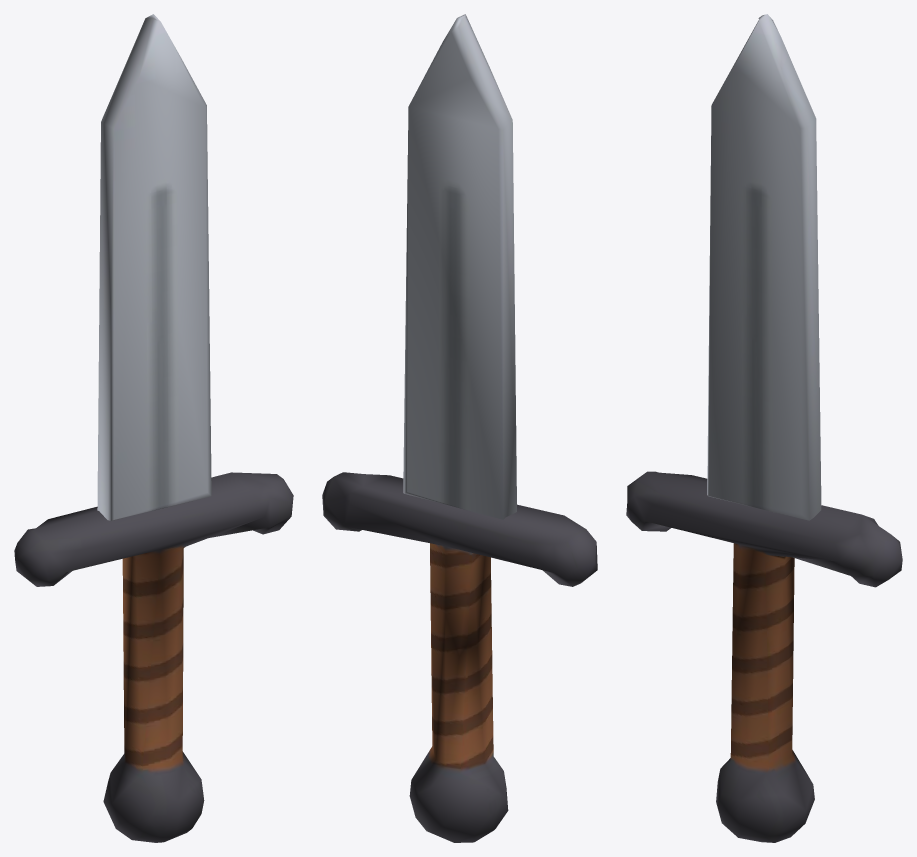
The model's file is adventurer-sword.glb.
3 renders of one model, left to right at view 1: azimuth 30°, elevation 25°; view 2: azimuth 150°, elevation 25°; view 3: azimuth 330°, elevation 25°, orthographic.
Parts seen in each view (by area): view 1: sword; view 2: sword; view 3: sword.
Boxes of the visible parts, left/top/right/bottom form: sword: left=14, top=14, right=293, bottom=842; sword: left=322, top=14, right=597, bottom=842; sword: left=626, top=14, right=902, bottom=842.
Size of the model in its own units: 0.1297 by 0.3734 by 0.0418.
1 material, 1 textured.
